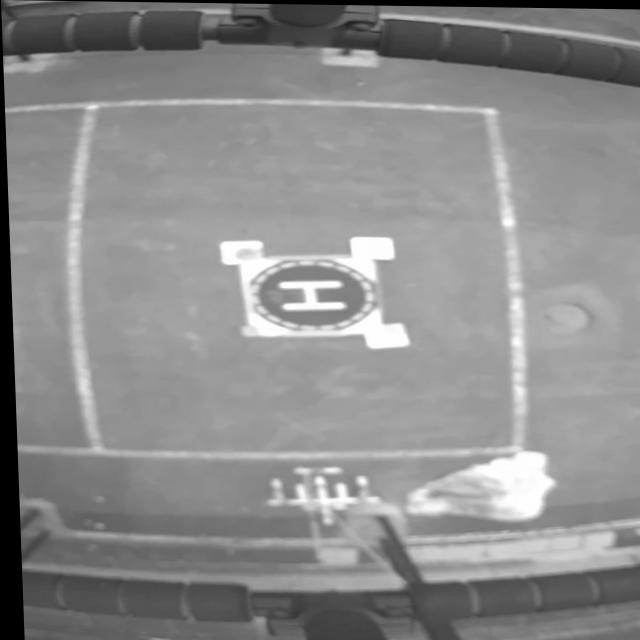Helipad: (272, 279, 345, 310)
